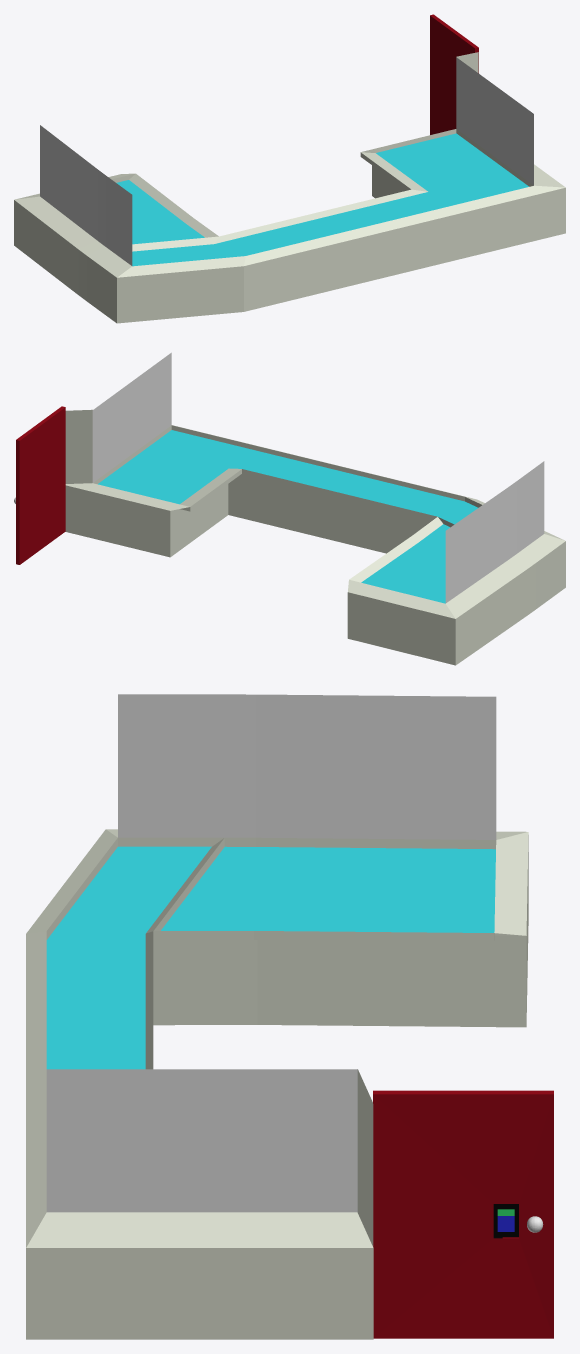
The model's file is Reception_Floor.fbx.
3 views of the same model, one above another, from view 1: azimuth 30°, elevation 25°; view 2: azimuth 150°, elevation 25°; view 3: azimuth 270°, elevation 25° (orthographic). The views are drawn at different scales.
Parts seen in each view (by area): view 1: Cube.001, Cube.002; view 2: Cube.001, Cube.002; view 3: Cube.001, Cube.002.
Boxes of the visible parts, bbox=[...] form: Cube.001: bbox=[14, 52, 565, 323]; Cube.002: bbox=[430, 14, 478, 134]; Cube.001: bbox=[65, 352, 565, 665]; Cube.002: bbox=[16, 406, 65, 564]; Cube.001: bbox=[26, 694, 528, 1339]; Cube.002: bbox=[373, 1090, 553, 1338].
Bounding box in the file's own units: 802 × 216 × 422.
